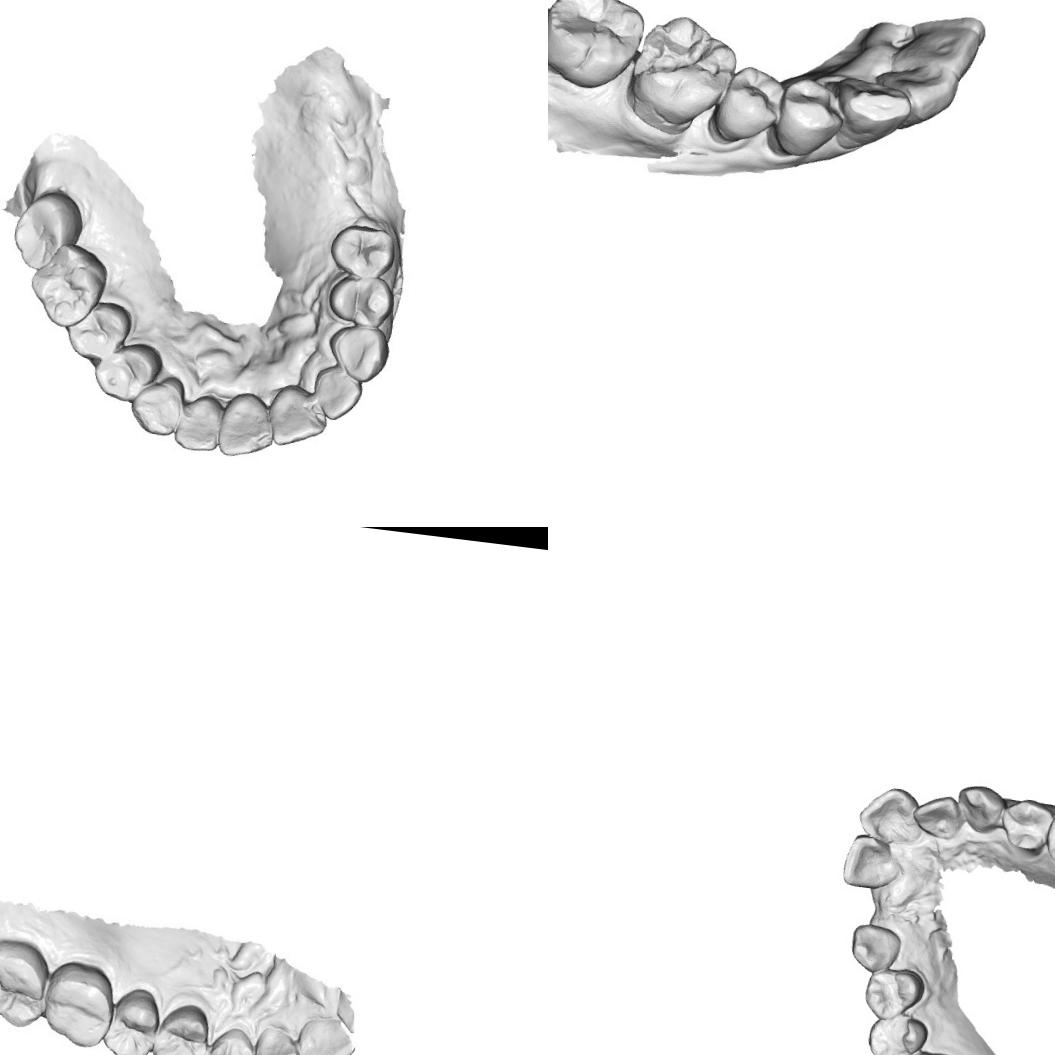canine: (834, 69, 916, 154), (324, 322, 395, 384), (126, 373, 186, 438), (845, 920, 905, 978), (954, 781, 1008, 837), (204, 1024, 263, 1055)
incisor: (884, 16, 988, 95), (872, 53, 963, 130), (854, 780, 930, 850), (216, 387, 279, 463), (266, 384, 331, 452), (838, 831, 906, 894), (172, 392, 224, 454), (309, 366, 364, 423), (908, 790, 962, 842), (296, 1016, 360, 1055), (252, 1020, 306, 1055)
molar: (624, 10, 739, 134), (548, 0, 649, 96), (25, 241, 110, 332), (39, 958, 118, 1052), (9, 186, 86, 275), (0, 935, 55, 1032)
premolar: (768, 74, 848, 164), (710, 61, 788, 149), (89, 337, 166, 406), (62, 299, 132, 364), (327, 219, 398, 283), (102, 979, 161, 1055), (325, 271, 398, 330), (860, 964, 928, 1026), (996, 794, 1055, 855), (149, 1001, 212, 1055), (862, 1007, 931, 1055), (1042, 803, 1055, 872)
